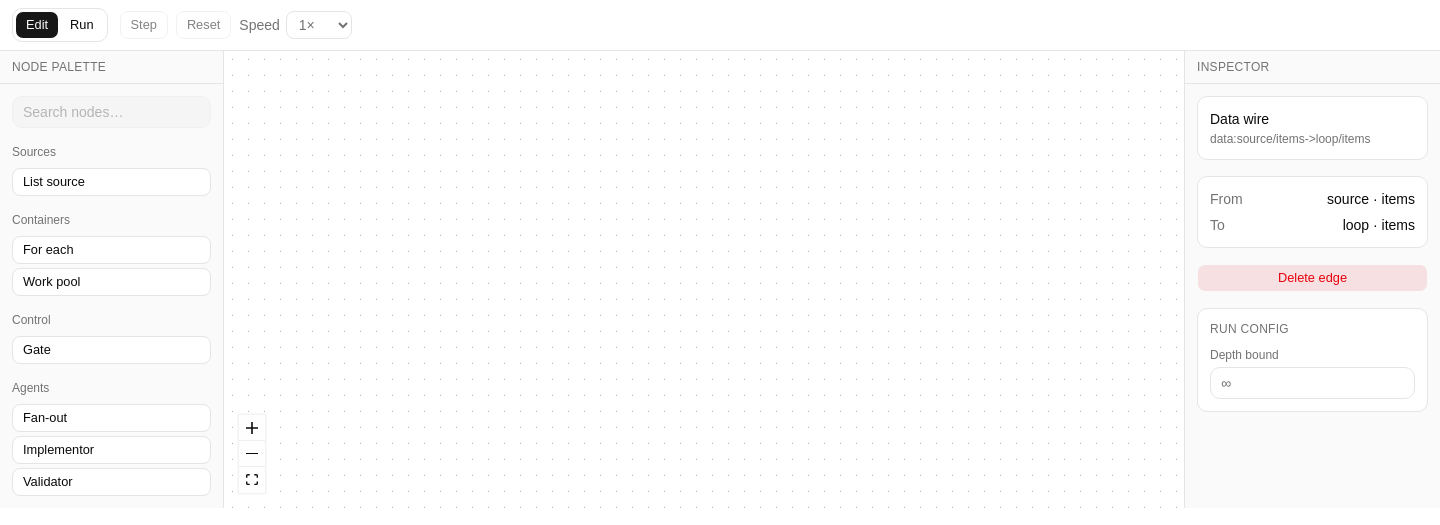
Test: edge inspector wiring › deletes the selected edge from the inspector button
The width and height of the screenshot is (1440, 525).
Click the button with test id "inspector-edge-delete": (1312,278) [1197,264,1428,292]
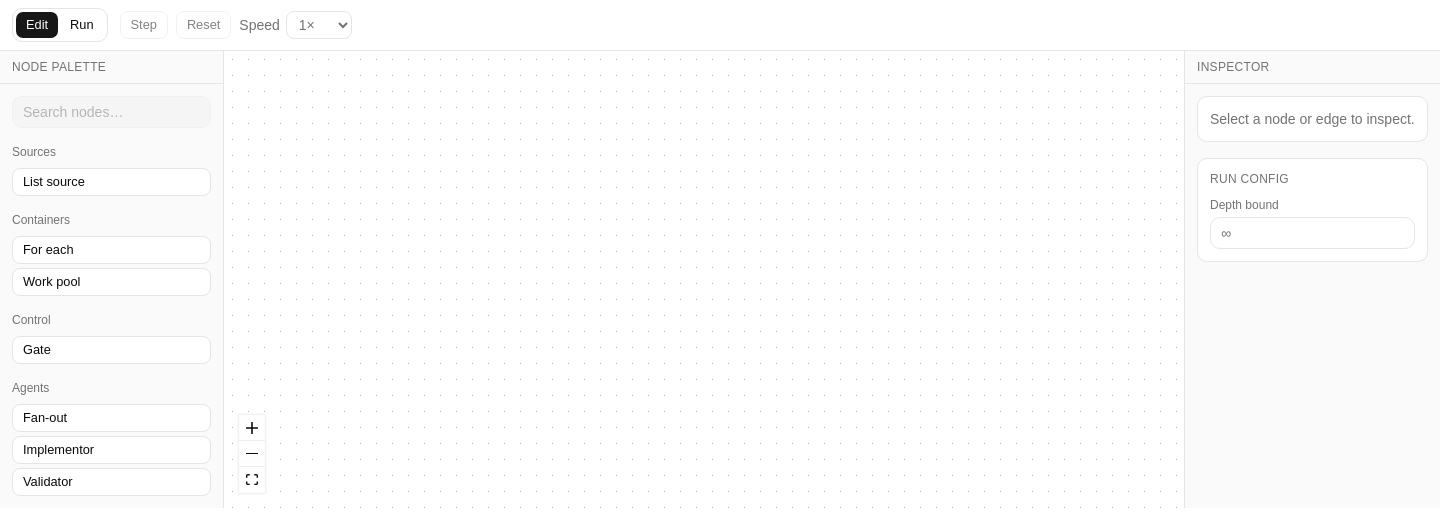
Check: the element with test id "inspector-edge" is gone
Check: the text "Select a node or edge to inspect." is shown, box [1210,109,1415,129]
